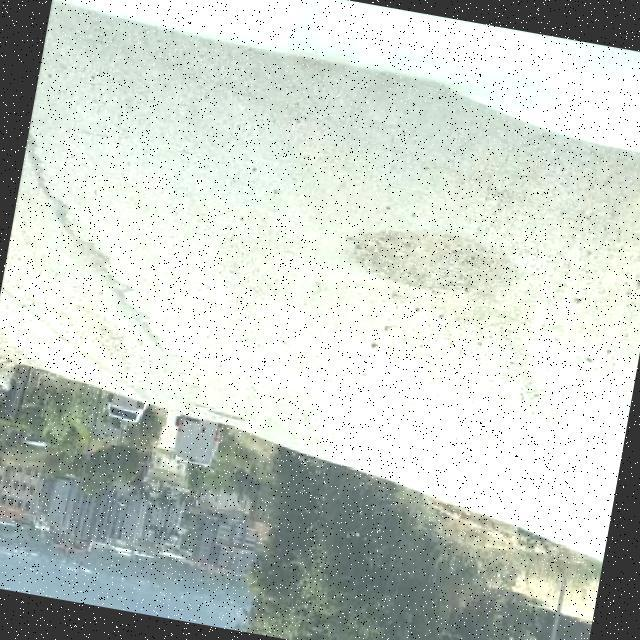Pothole: (346, 227, 519, 302)
